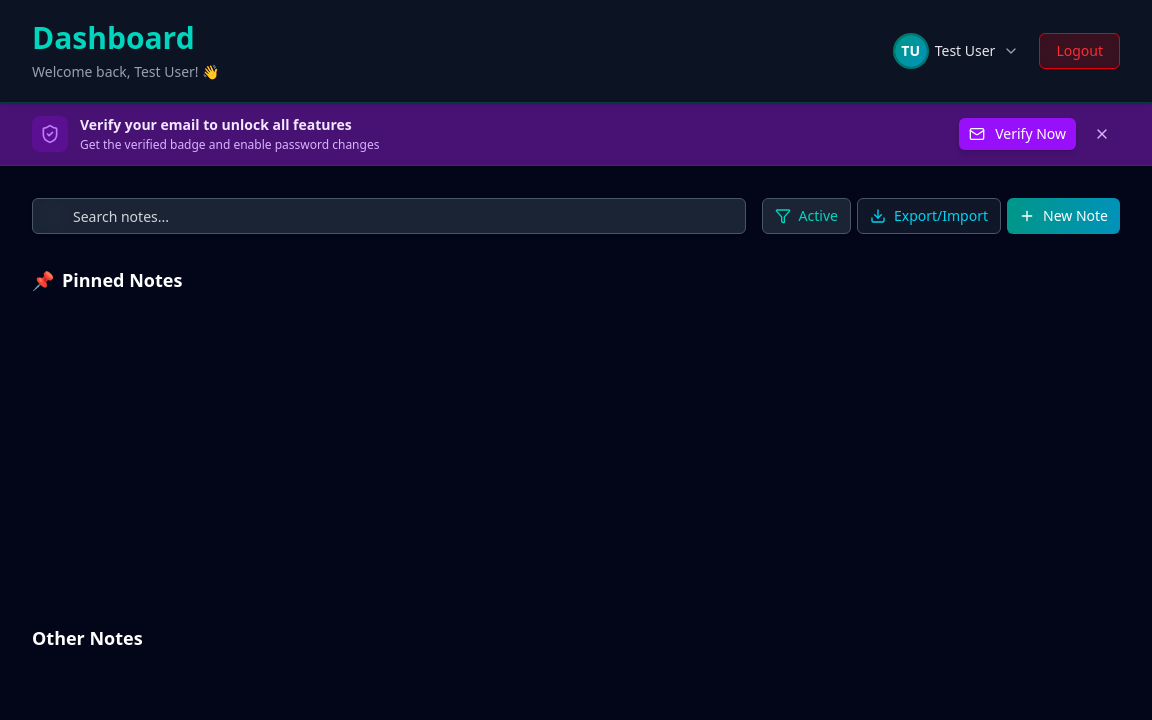
Test case: DashboardPage › handles archive filtering
The width and height of the screenshot is (1152, 720).
Note: Click on the filter button to toggle between active and archived
Click the button "Active" at (806,216), box [762,198,851,234]
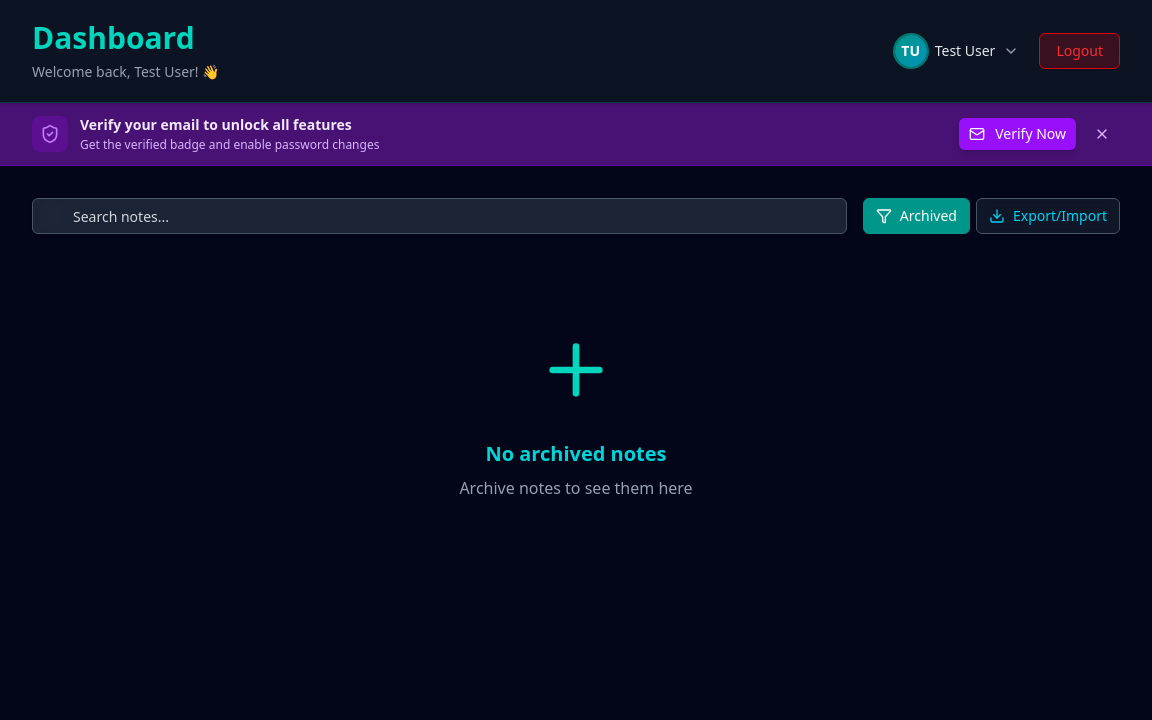
Expected: the button "Archived" is shown, [863,198,970,234]
